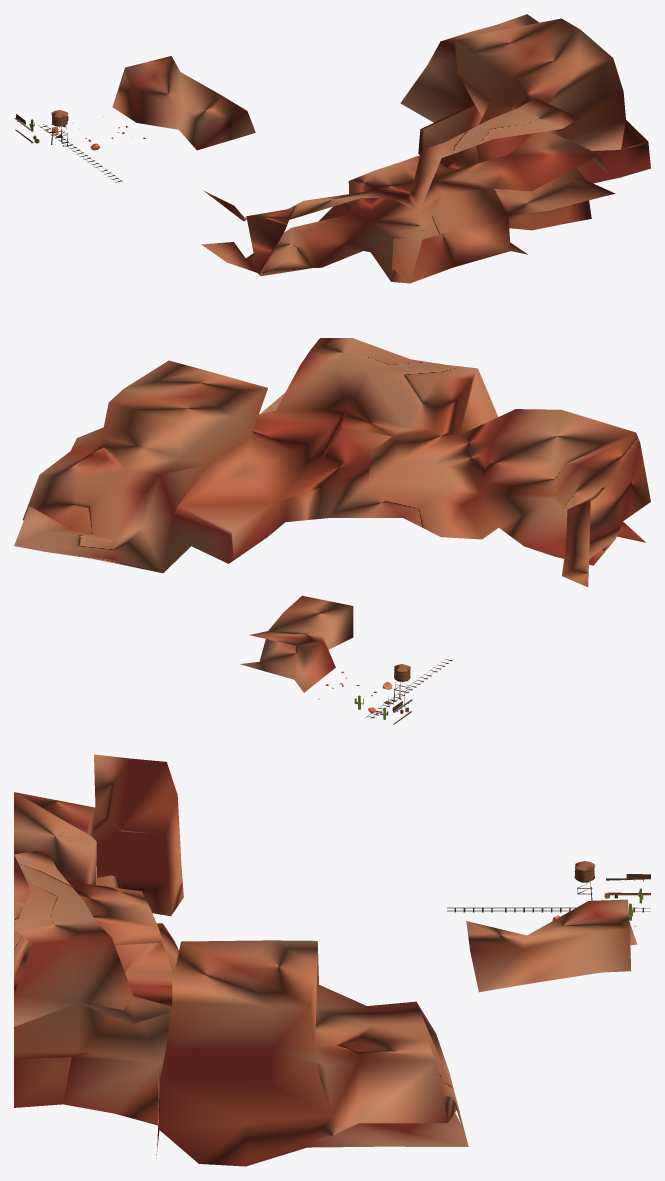
3 renders of one model, top to bottom at view 1: azimuth 30°, elevation 25°; view 2: azimuth 150°, elevation 25°; view 3: azimuth 270°, elevation 25°, orthographic. The views are drawn at different scales.
Parts seen in each view (by area): view 1: scene.l1.2.2 (×2); view 2: scene.l1.2.2 (×2); view 3: scene.l1.2.2 (×2).
Part boxes in pixels (<box>): scene.l1.2.2 (×2): <box>14,14,650,283</box>; scene.l1.2.2 (×2): <box>14,338,650,724</box>; scene.l1.2.2 (×2): <box>14,754,650,1166</box>.
Bounding box in the file's own units: 125 × 32.75 × 125.
